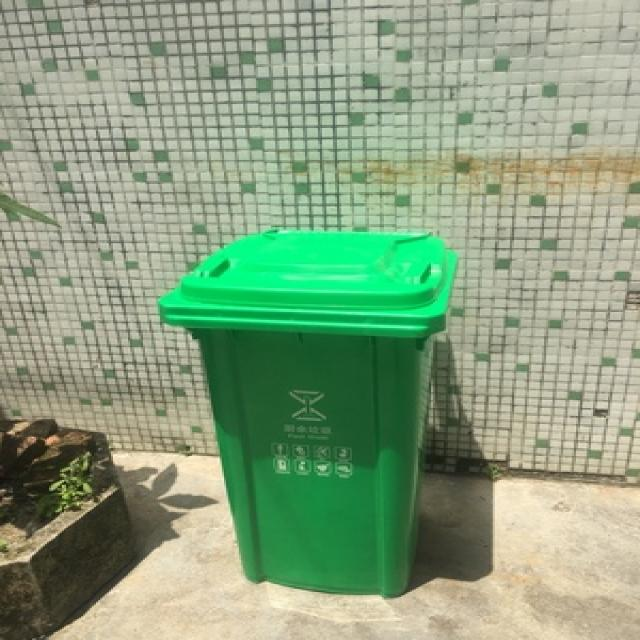ash bin: (158, 226, 459, 598)
